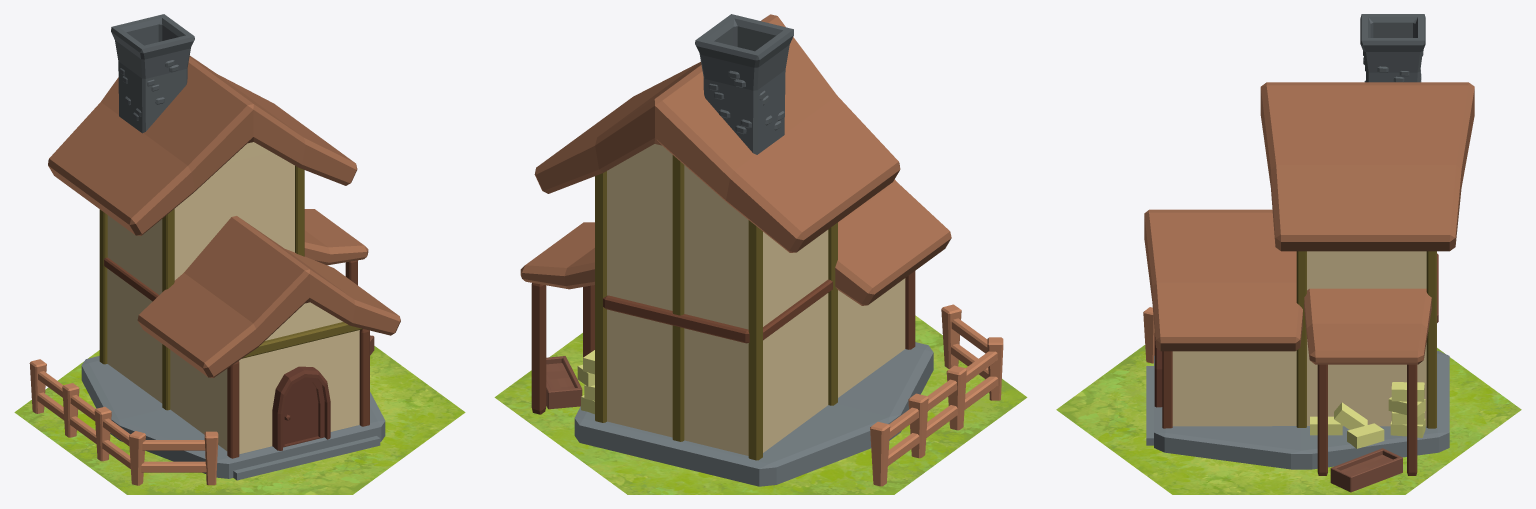
Rendered from Hex_flat_Tavern.fbx.
3 views of the same model, side by side, from view 1: azimuth 30°, elevation 25°; view 2: azimuth 150°, elevation 25°; view 3: azimuth 270°, elevation 25° (orthographic). The views are drawn at different scales.
Parts seen in each view (by area): view 1: Hex_flat_Tavern; view 2: Hex_flat_Tavern; view 3: Hex_flat_Tavern.
Part boxes in pixels (<box>): Hex_flat_Tavern: <box>14,14,465,494</box>; Hex_flat_Tavern: <box>494,14,1027,494</box>; Hex_flat_Tavern: <box>1056,14,1521,494</box>.
Bounding box in the file's own units: 0.866 × 0.8738 × 1.
